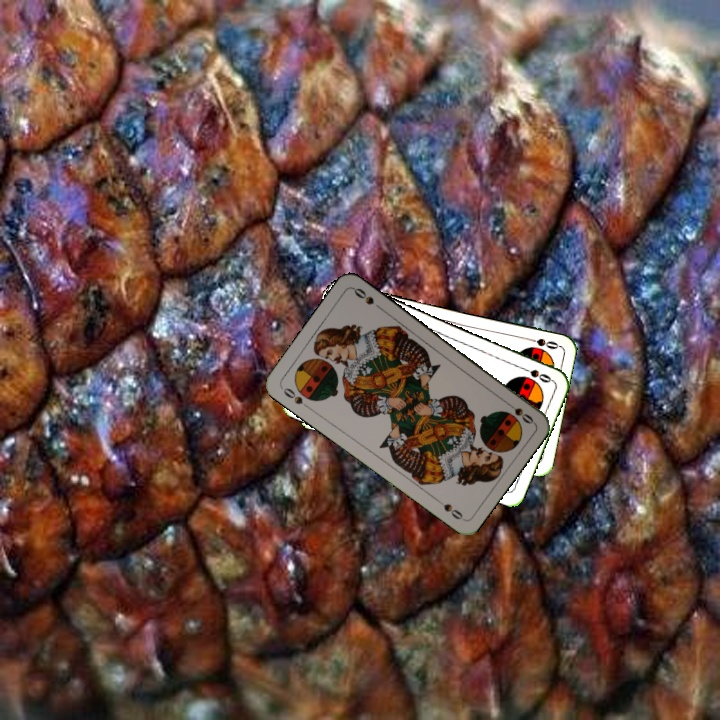SO: (501, 397, 536, 427), (278, 383, 313, 412), (516, 362, 555, 385), (521, 333, 561, 352)
